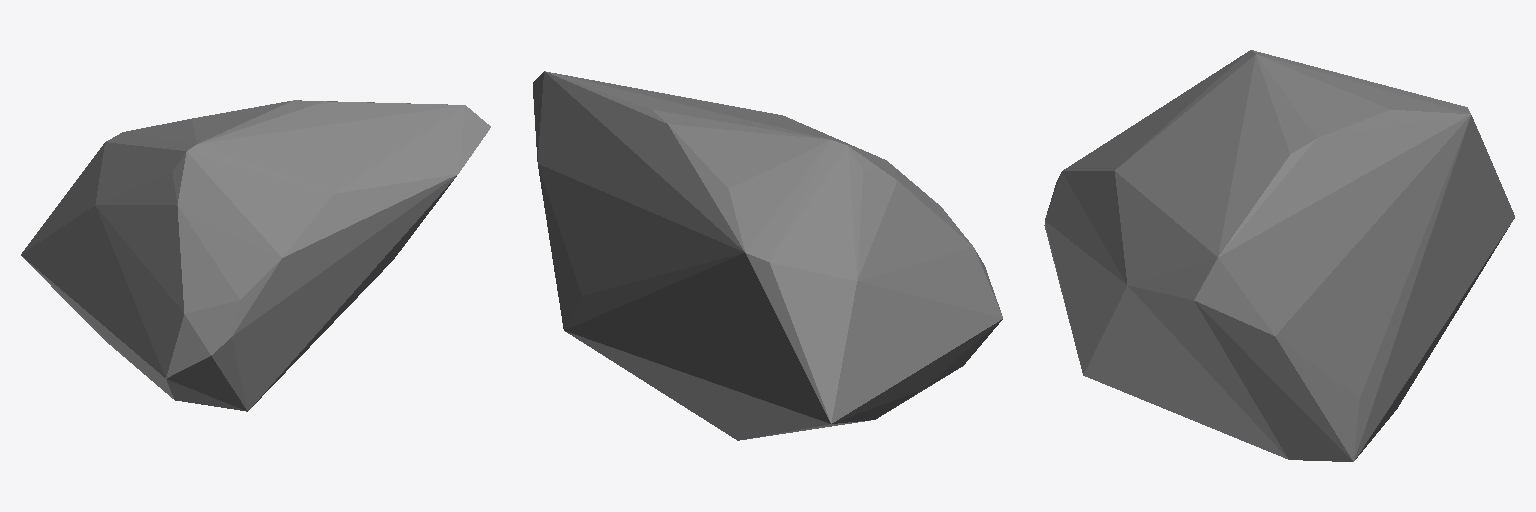
The robot description file, URDF, robot "40_965":
<?xml version="1.0"?>
<robot name="40_965">
  <link name="link">
    <contact>
      <lateral_friction value="0.6"/>
    </contact>
    <inertial>
      <mass value = "0.42650827692560467"/>
      <inertia ixx="0.00018745423133481796" ixy="-1.4940915737567245e-05" ixz="3.6313376366622177e-05" iyy="0.0002771880827723594" iyz="-2.701261635082268e-06" izz="0.0002974723125836402" />
    </inertial>
    <visual name="visual">
      <geometry>
        <mesh filename="40_965.obj"/>
      </geometry>
      <material name="material">
        <color rgba="0.5519090718747138 0.5519090718747138 0.5519090718747138 1.0"/>
      </material>
    </visual>
    <collision name="collision">
      <geometry>
        <mesh filename="40_965.obj"/>
      </geometry>
    </collision>
  </link>
</robot>

--- Facts derived from the render (not from the file) ---
3 views of the same robot in one strip: view 1: azimuth 30°, elevation 25°; view 2: azimuth 150°, elevation 25°; view 3: azimuth 270°, elevation 25° (orthographic).
Model 40_965 with 1 links and 0 joints (none), rooted at link, posed all joints at 0.
Visible links, largest first — view 1: link; view 2: link; view 3: link.
Boxes of the visible links, x1=… form: link: x1=21, y1=100, x2=490, y2=411; link: x1=533, y1=71, x2=1002, y2=440; link: x1=1044, y1=50, x2=1514, y2=461.
Size in the robot's own frame: 0.0998 by 0.0766 by 0.0598 metres.
1 mesh visuals loaded from 1 distinct referenced files (1 OBJ).
